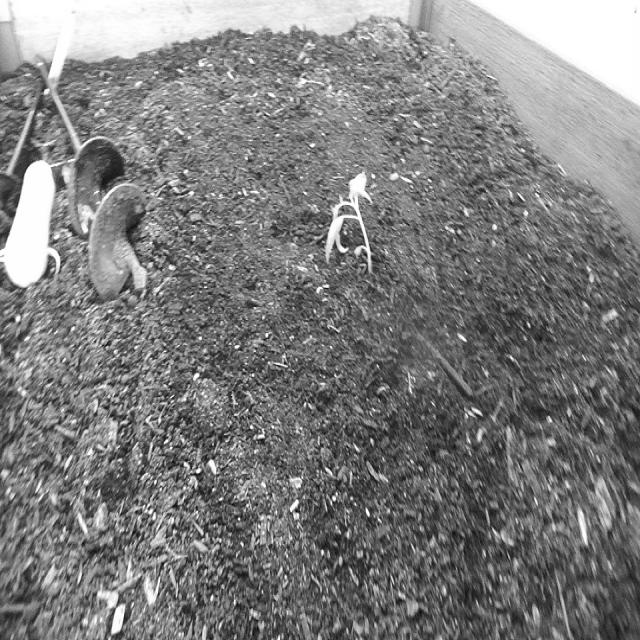Healthy: (323, 171, 377, 279)
